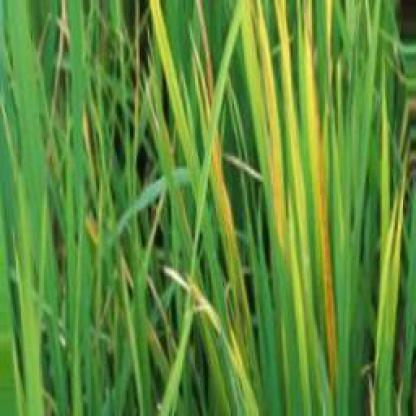Tungro: (195, 30, 261, 316), (299, 3, 346, 391), (248, 3, 292, 255)
